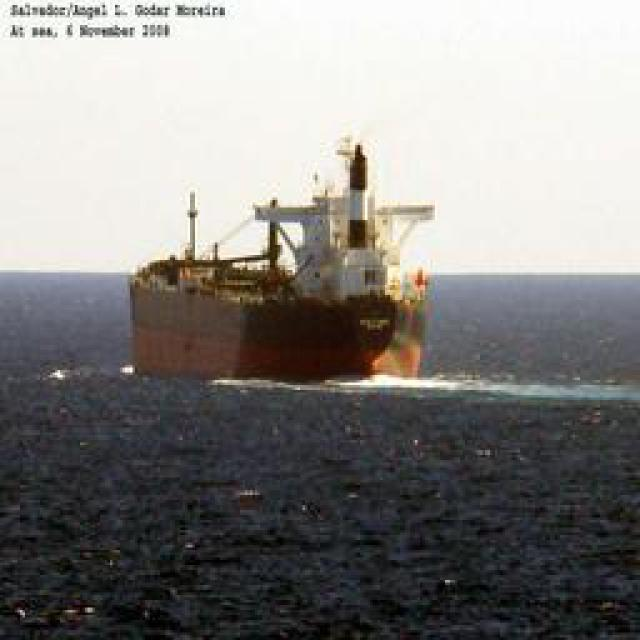Ship: (127, 138, 429, 388)
